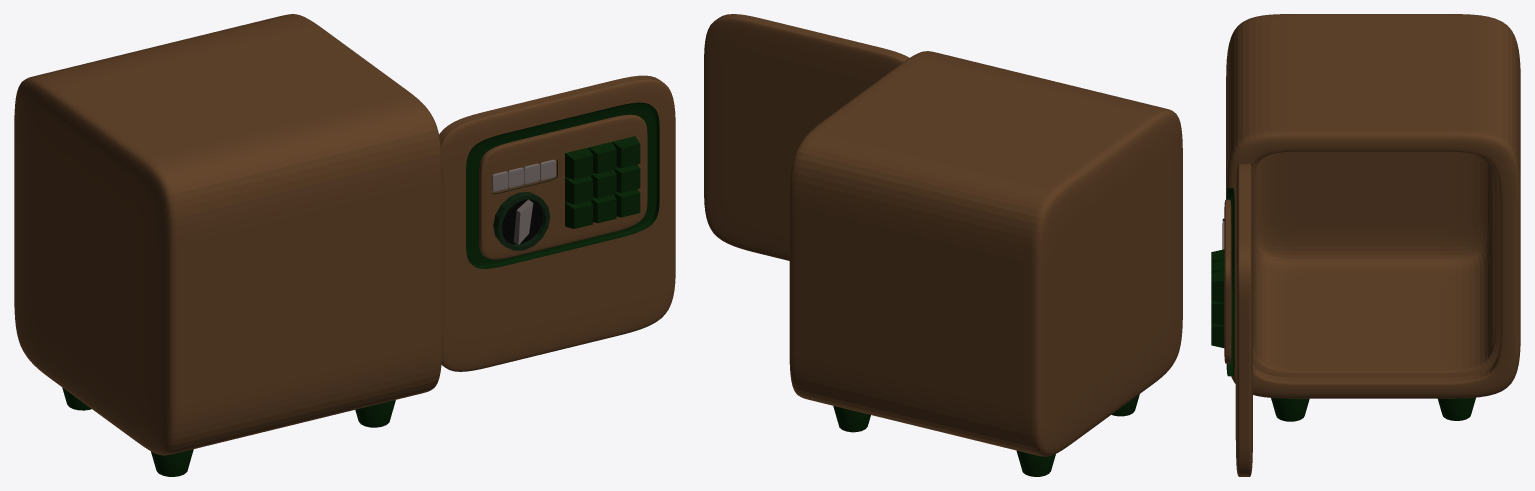
File: Tresor-offen.glb
The picture shows the model from 3 angles, left to right: view 1: azimuth 30°, elevation 25°; view 2: azimuth 150°, elevation 25°; view 3: azimuth 270°, elevation 25°; orthographic projection. The views are drawn at different scales.
Visible parts, largest first — view 1: Body, Door; view 2: Body, Door; view 3: Body, Door.
Part boxes in pixels (x1,y1,x2,y2): Body: (14, 14, 442, 476); Door: (439, 75, 675, 371); Body: (789, 51, 1182, 476); Door: (704, 14, 909, 260); Body: (1226, 14, 1520, 421); Door: (1211, 163, 1252, 476).
Bounding box in the file's own units: 3.71 × 2.23 × 2.1.
